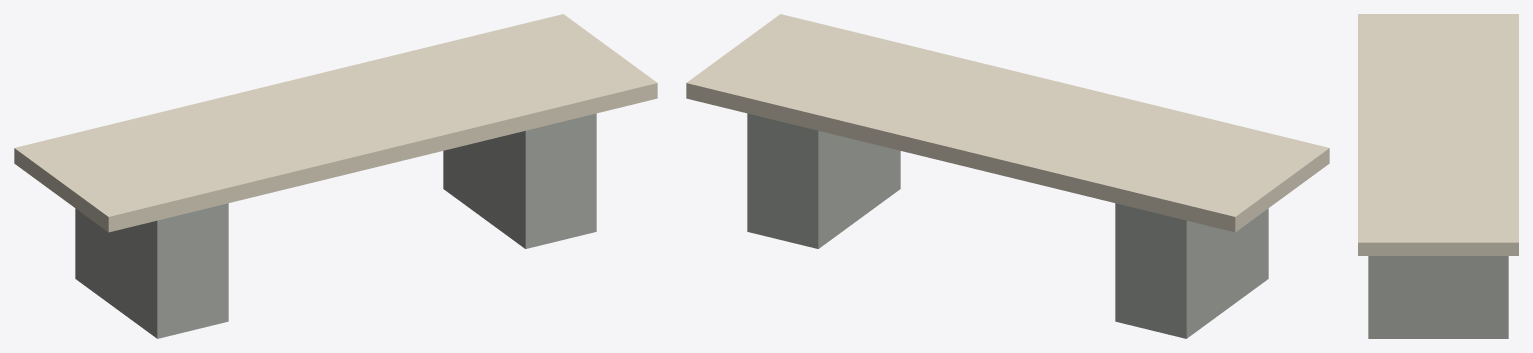
The model's file is StoneBench.glb.
The picture shows the model from 3 angles, left to right: view 1: azimuth 30°, elevation 25°; view 2: azimuth 150°, elevation 25°; view 3: azimuth 270°, elevation 25°; orthographic projection. The views are drawn at different scales.
Parts seen in each view (by area): view 1: ST_Stone_Seat.001, ST_StoneBench_ST_stone.001; view 2: ST_Stone_Seat.001, ST_StoneBench_ST_stone.001; view 3: ST_Stone_Seat.001, ST_StoneBench_ST_stone.001.
Part boxes in pixels (x1=…): ST_Stone_Seat.001: x1=14, y1=14, x2=657, y2=232; ST_StoneBench_ST_stone.001: x1=75, y1=113, x2=596, y2=338; ST_Stone_Seat.001: x1=686, y1=14, x2=1329, y2=232; ST_StoneBench_ST_stone.001: x1=747, y1=113, x2=1268, y2=338; ST_Stone_Seat.001: x1=1358, y1=14, x2=1518, y2=255; ST_StoneBench_ST_stone.001: x1=1368, y1=256, x2=1508, y2=338.
Size of the model in its own units: 1.85 by 0.45 by 0.55.
